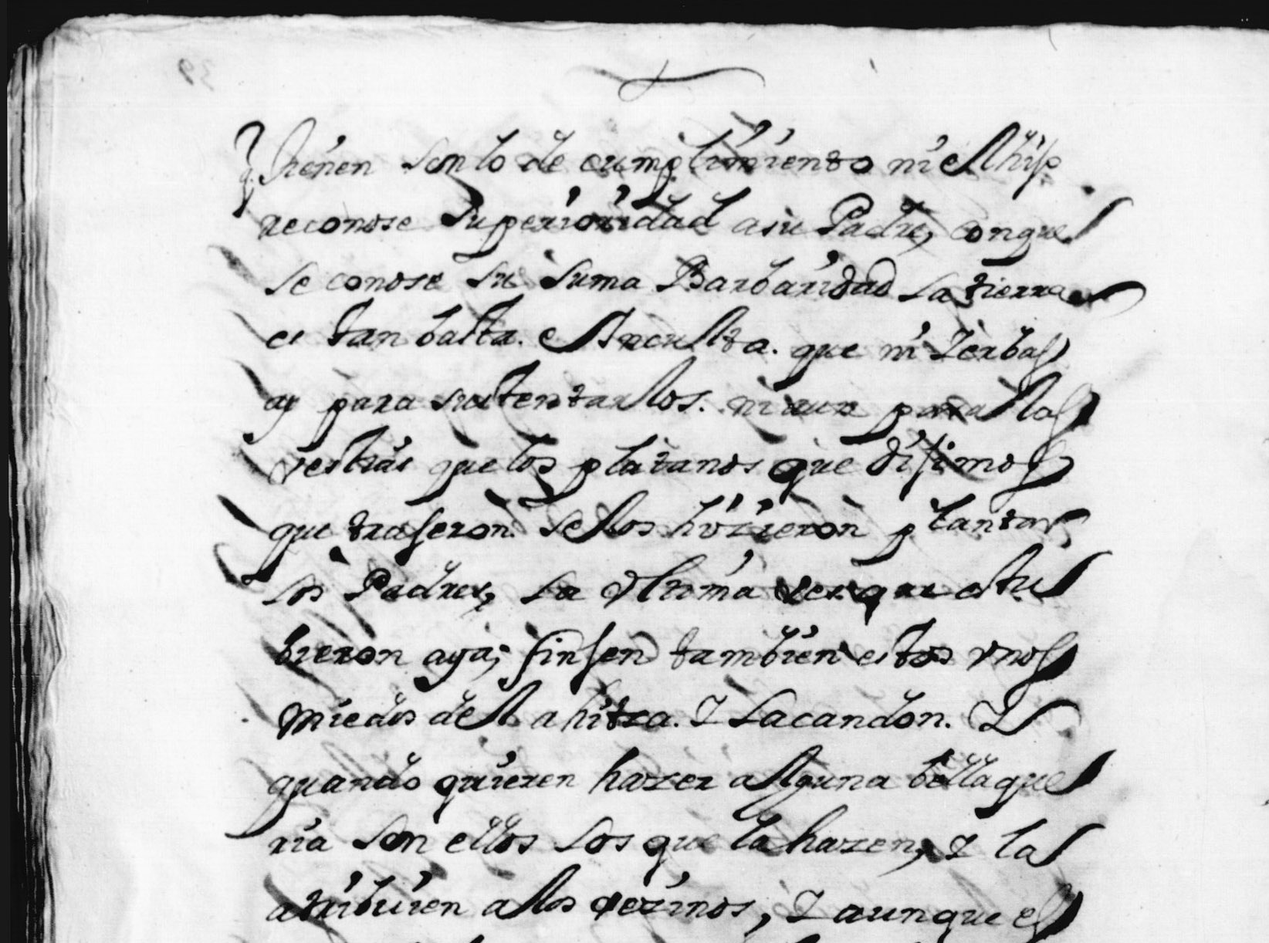lacandon: (728, 688, 944, 728)
